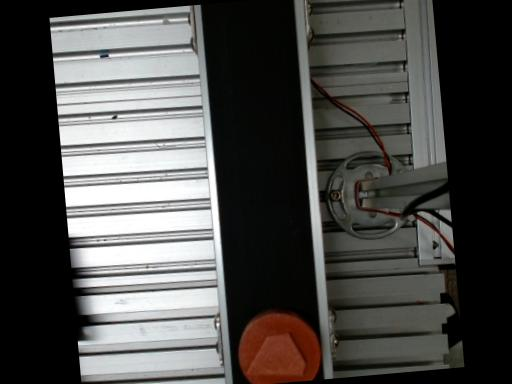Brown_Waper: (237, 309, 319, 384)
Not_Square: (244, 333, 306, 376)
